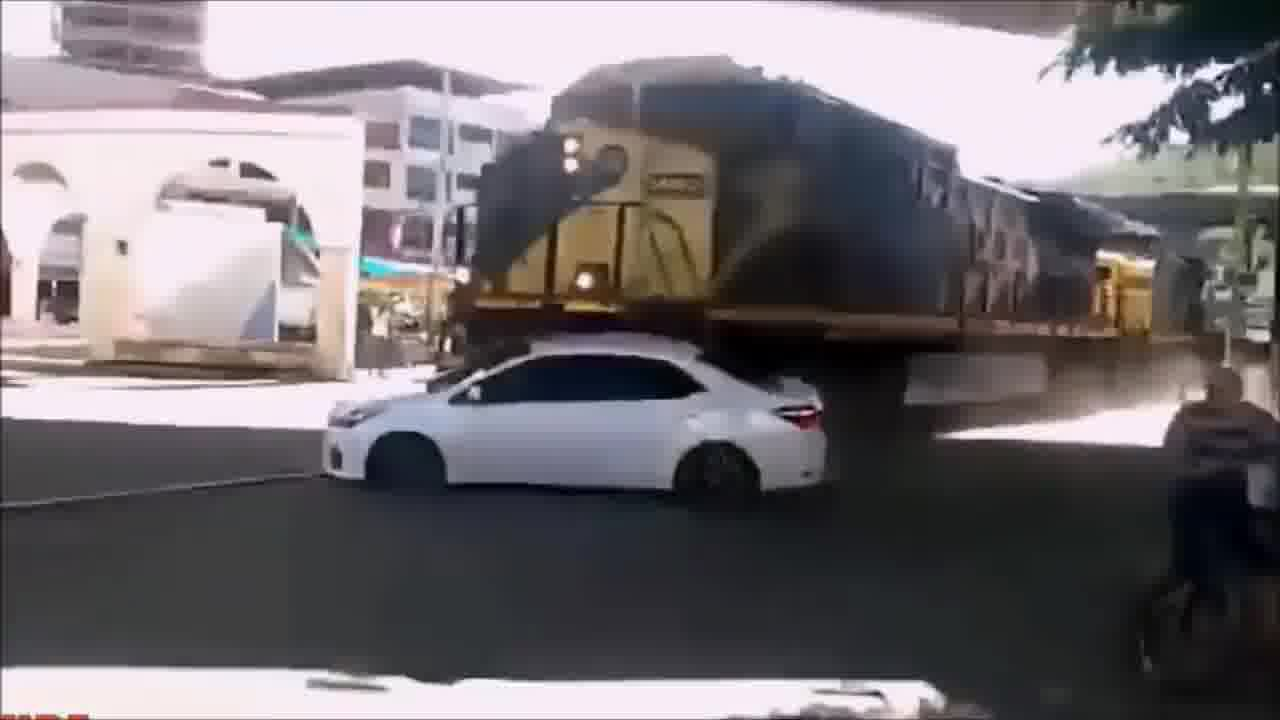crossing railway track: (298, 260, 928, 549)
